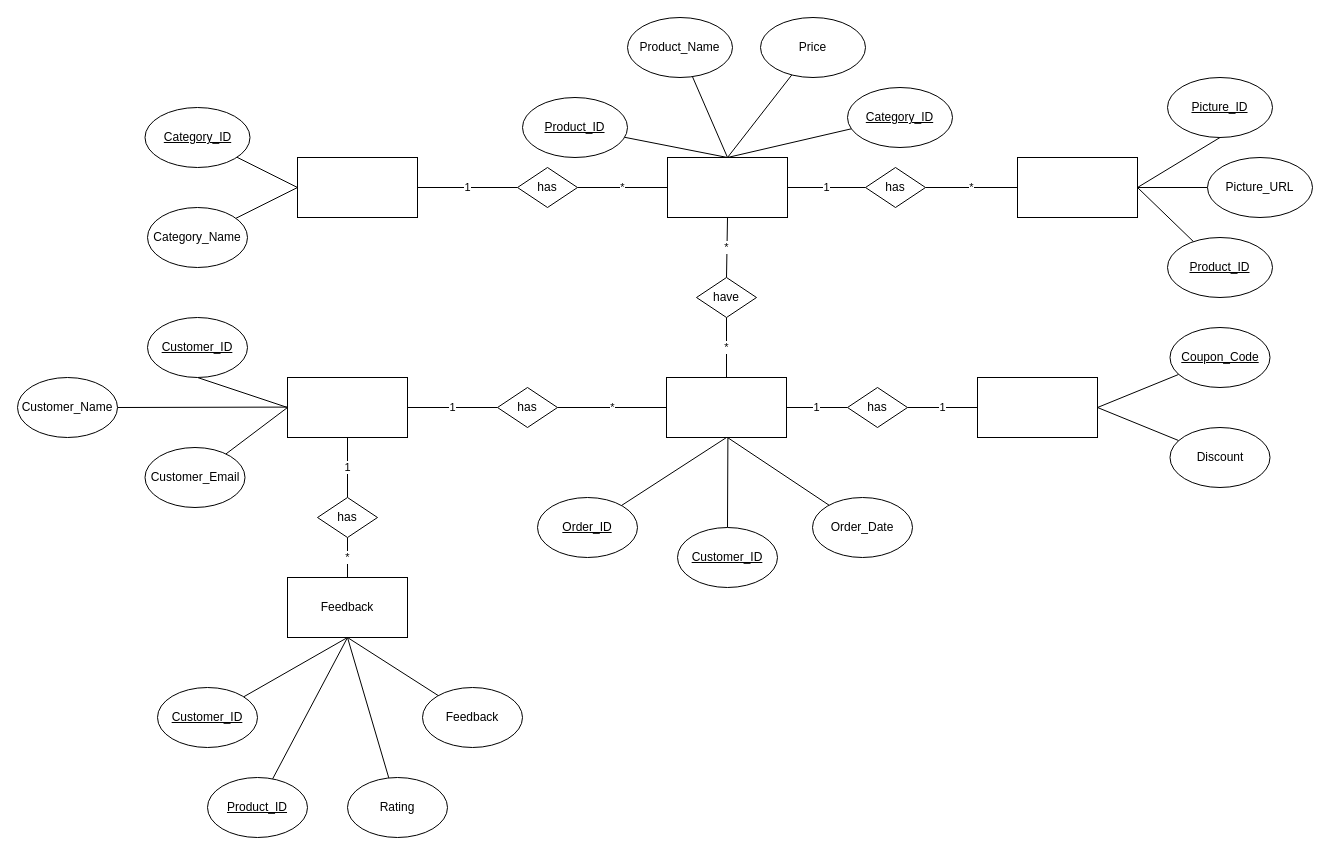
Image size: 1330x855. Some labels were removed from this diagram. The shapes that lost their labels are listed below. From the top down, each one's centre as x and y in pixels, then its label:
At [357,187]: "Category".
At [727,187]: "Product".
At [1077,187]: "Picture".
At [347,407]: "Customer".
At [726,407]: "Order".
At [1037,407]: "Coupon".
